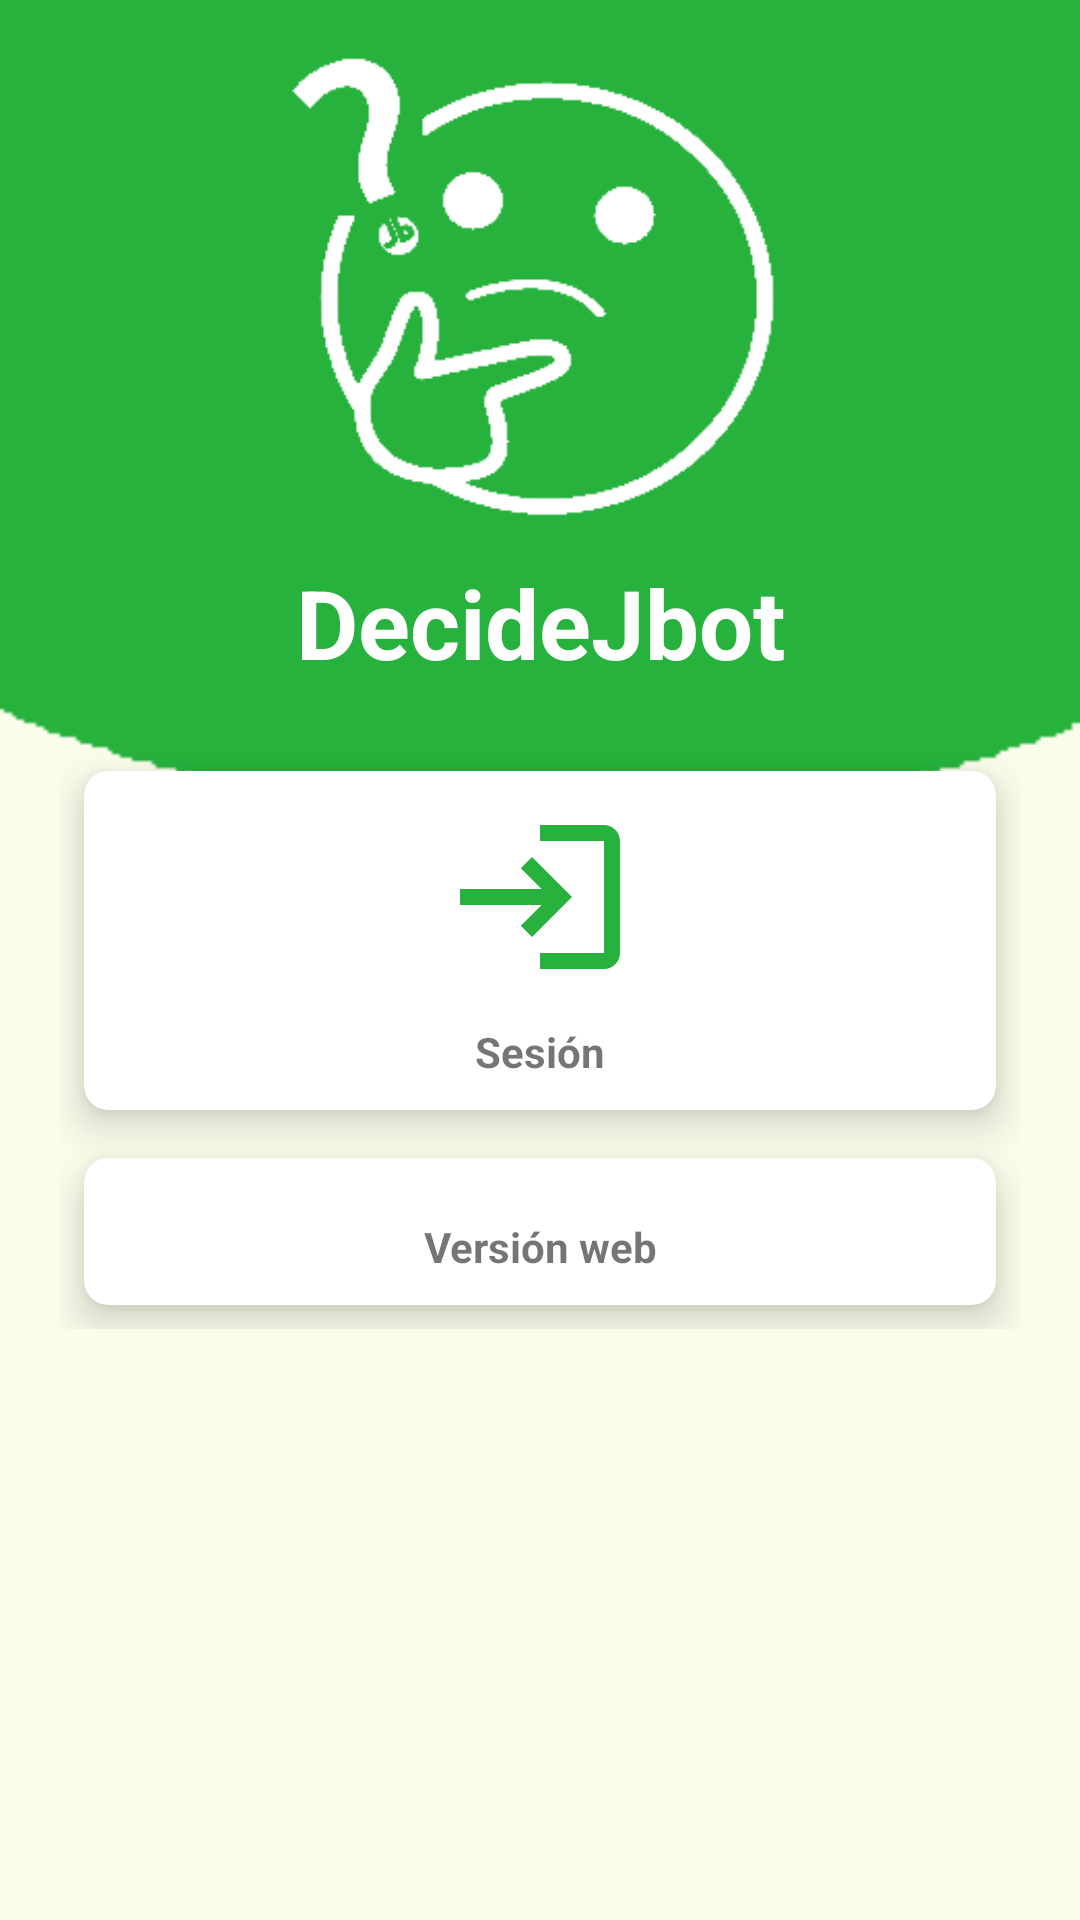

Icon click points for this 1080×1920 phone screenshot, format point (x, y):
login: point (540, 897)
